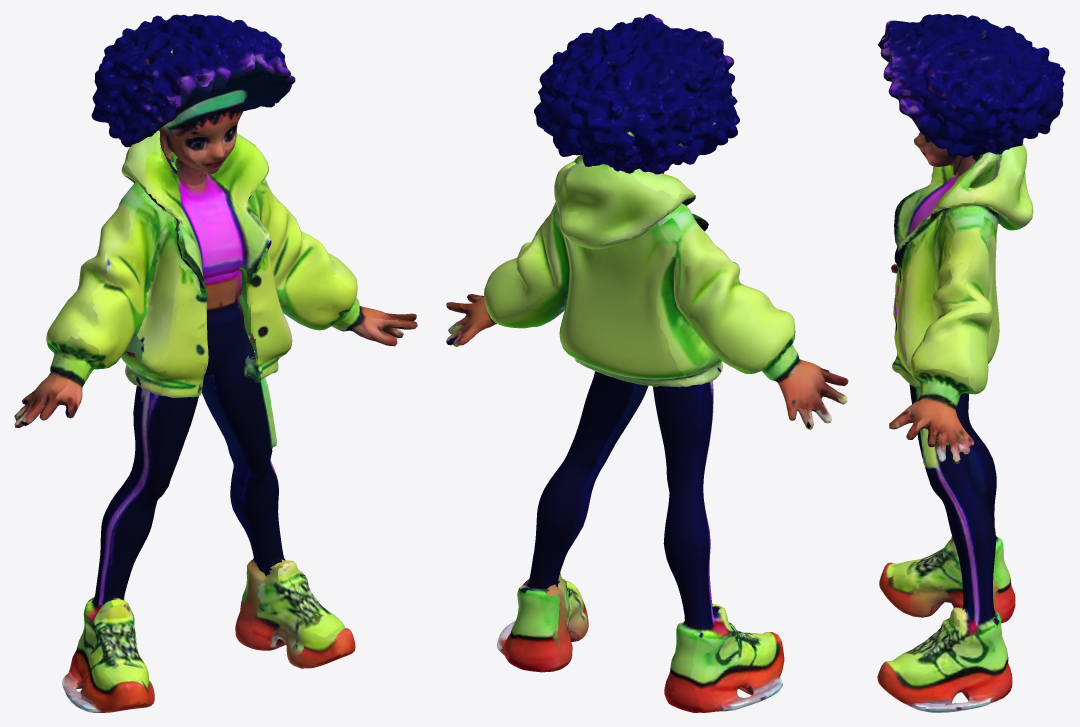
The model's file is gabi-mesh.glb.
3 views of the same model, side by side, from view 1: azimuth 30°, elevation 25°; view 2: azimuth 150°, elevation 25°; view 3: azimuth 270°, elevation 25° (orthographic). The views are drawn at different scales.
Parts seen in each view (by area): view 1: tmpbl49oh7c.ply; view 2: tmpbl49oh7c.ply; view 3: tmpbl49oh7c.ply.
Part boxes in pixels (x1,y1,x2,y2): tmpbl49oh7c.ply: [14, 14, 417, 712]; tmpbl49oh7c.ply: [446, 14, 848, 712]; tmpbl49oh7c.ply: [877, 14, 1065, 712].
Size of the model in its own units: 0.6357 by 0.9873 by 0.2687.
1 material, 1 textured.
